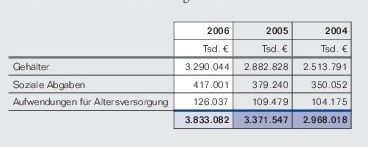table: (0, 0, 368, 147)
